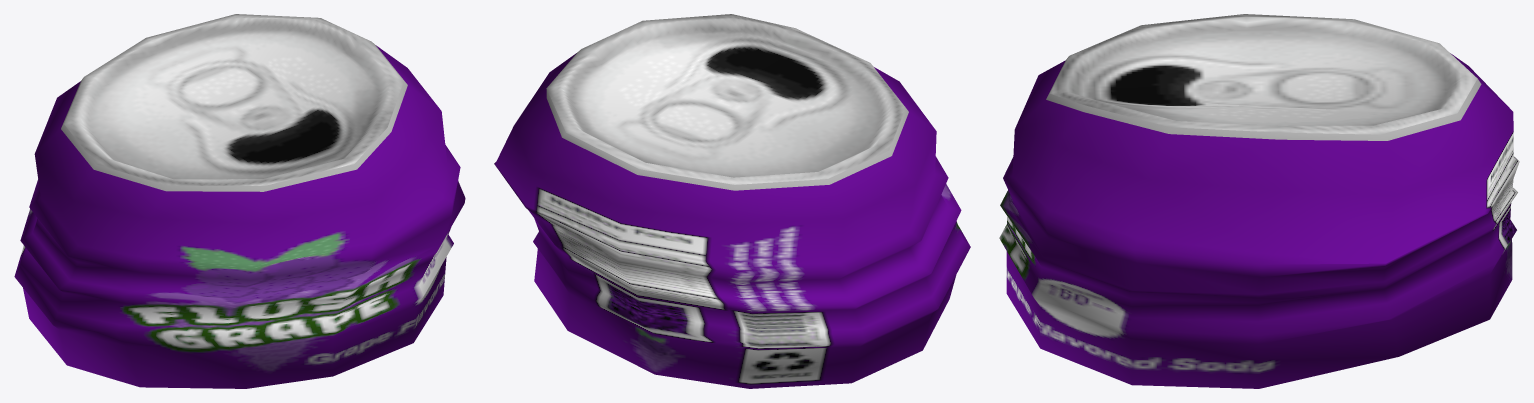
The model's file is flush_grape_can_crushed.fbx.
3 renders of one model, left to right at view 1: azimuth 30°, elevation 25°; view 2: azimuth 150°, elevation 25°; view 3: azimuth 270°, elevation 25°, orthographic. The views are drawn at different scales.
Parts seen in each view (by area): view 1: Flush Grape Can Crushed; view 2: Flush Grape Can Crushed; view 3: Flush Grape Can Crushed.
Boxes of the visible parts, x1,y1,x2,y2 form: Flush Grape Can Crushed: [14, 14, 465, 388]; Flush Grape Can Crushed: [494, 14, 970, 388]; Flush Grape Can Crushed: [999, 14, 1519, 388].
Size of the model in its own units: 8.34 by 4.81 by 8.24.
Materials: 1 (1 with a texture image).
